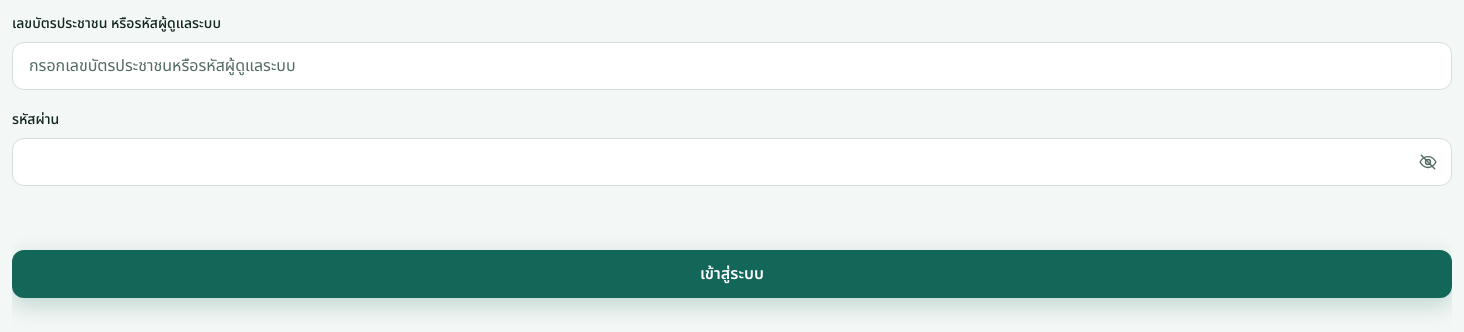
Scenario: Login form › reports an unreachable sign-in as a retryable connection failure
This screenshot has width=1464, height=332.
Step 1. Type "1234567890123" into the field with id "nationalId" → (732,66), box [12,42,1452,90]
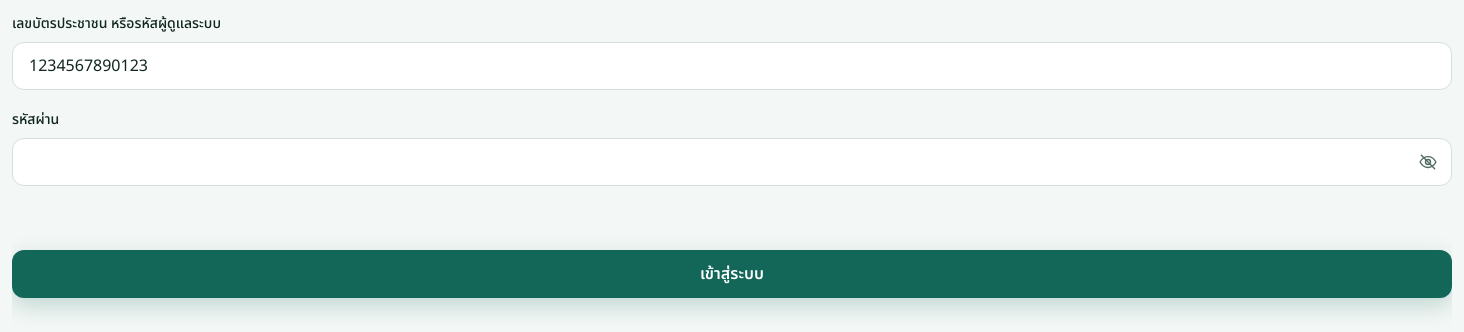
Step 2. Type "secret-password" into the password field labelled "รหัสผ่าน" → (732,162), box [12,138,1452,186]
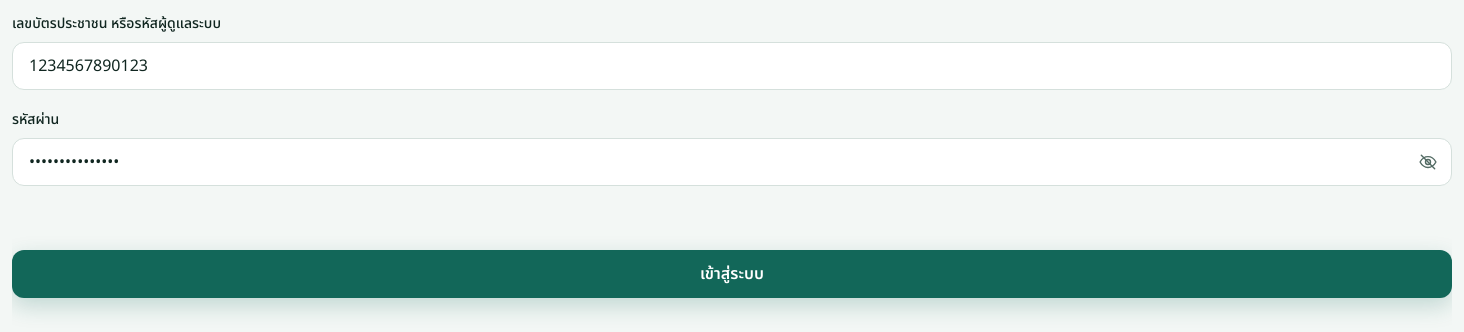
Step 3. Click the button "เข้าสู่ระบบ" → (732,274), box [12,250,1452,298]
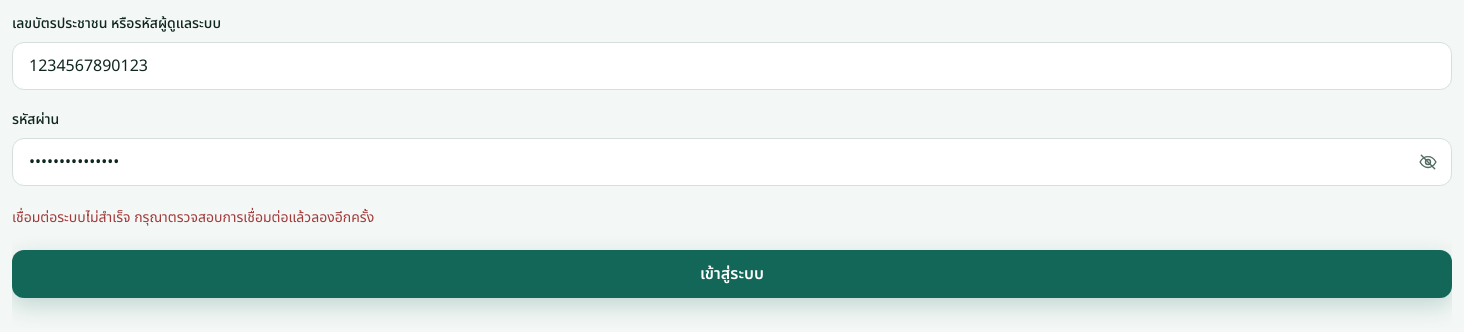
Result: the message with id "login-error" shows "เชื่อมต่อระบบไม่สำเร็จ" at [12,207,374,228]
